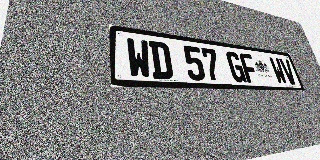5: (183, 45, 207, 81)
7: (200, 47, 223, 82)
D: (148, 41, 174, 80)
F: (239, 53, 260, 83)
G: (225, 51, 247, 83)
V: (279, 58, 298, 85)
W: (126, 37, 152, 79), (268, 57, 288, 84)
